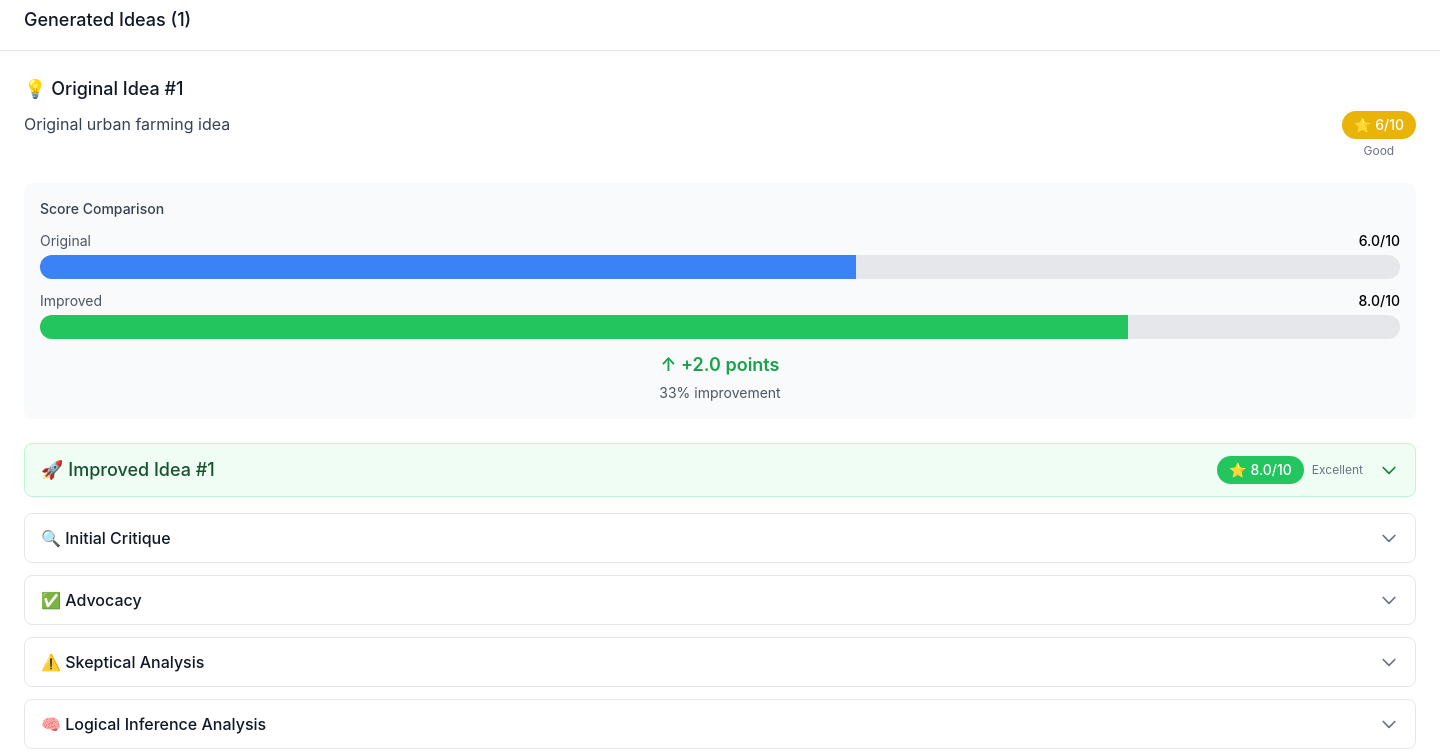
it: ResultsDisplay - Logical Inference Display › should display conclusion and confidence
// Expand the logical inference section
Click the button with aria-label "toggle logical inference". click: (154, 724)
box: x1=25 y1=700 x2=1415 y2=748
(page scrolled)
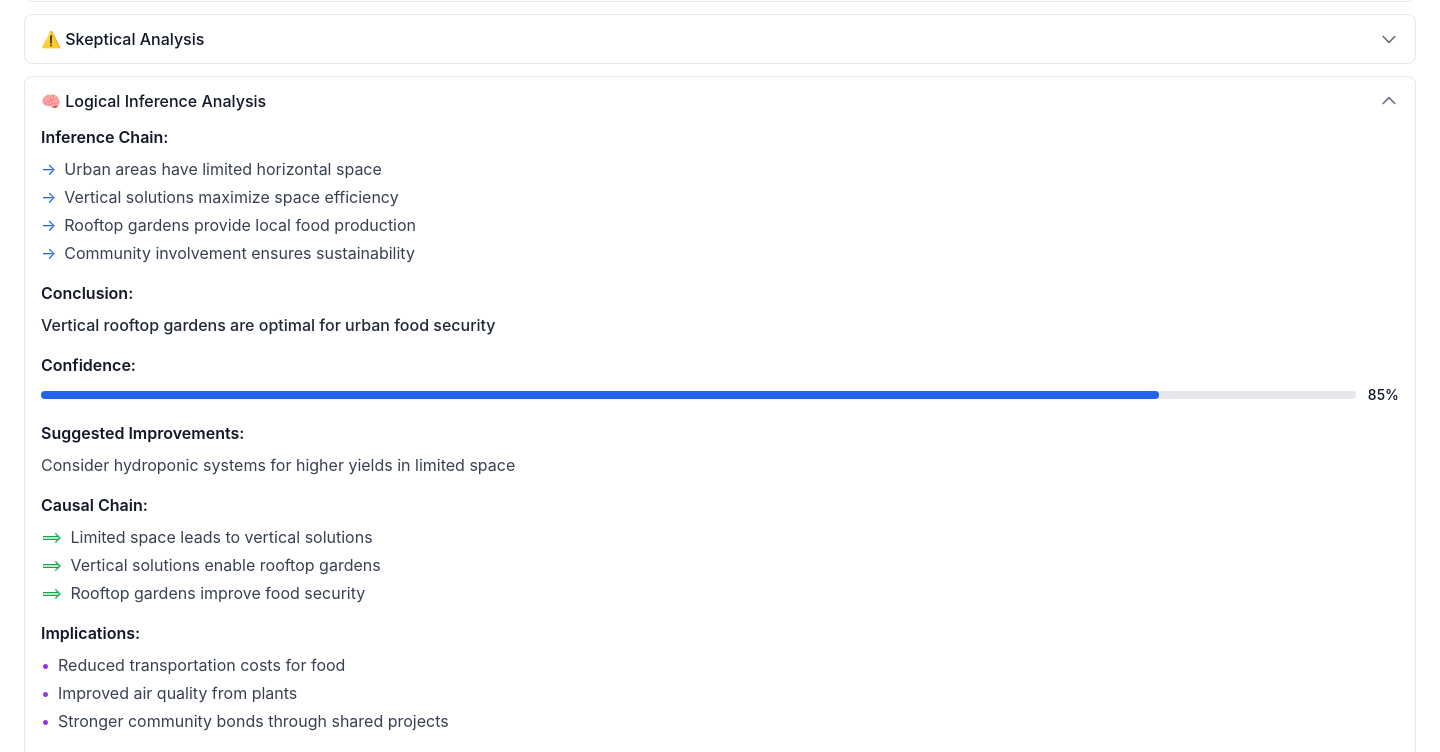
Result: the text "Vertical rooftop gardens are optimal for urban food security" is shown at x1=41 y1=315 x2=496 y2=335
Result: the text "85%" is shown at x1=1368 y1=385 x2=1399 y2=405
